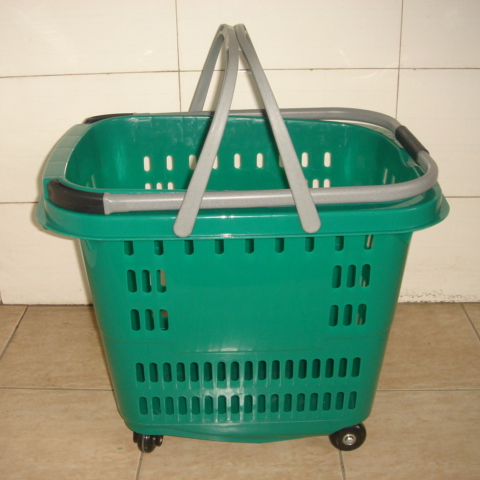with_basket: (40, 23, 436, 449)
